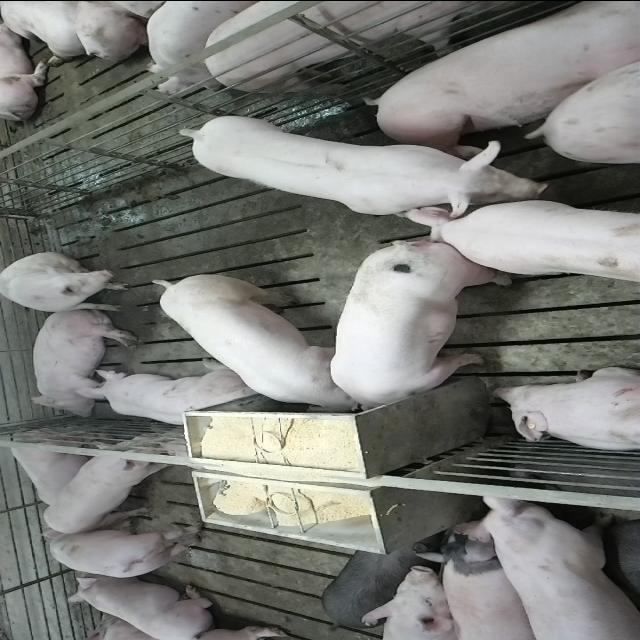Feeding: (328, 244, 512, 420), (144, 268, 359, 411)
Lateral_lying: (365, 4, 640, 151), (26, 307, 140, 417)
Sitting: (1, 252, 135, 314)
Standing: (196, 0, 640, 94), (184, 113, 552, 221), (458, 496, 640, 640), (415, 198, 640, 286), (416, 526, 550, 638), (46, 438, 172, 536), (320, 539, 428, 629)
Sternal_lying: (490, 366, 640, 454), (76, 367, 258, 431), (65, 573, 215, 637), (4, 426, 94, 511)
